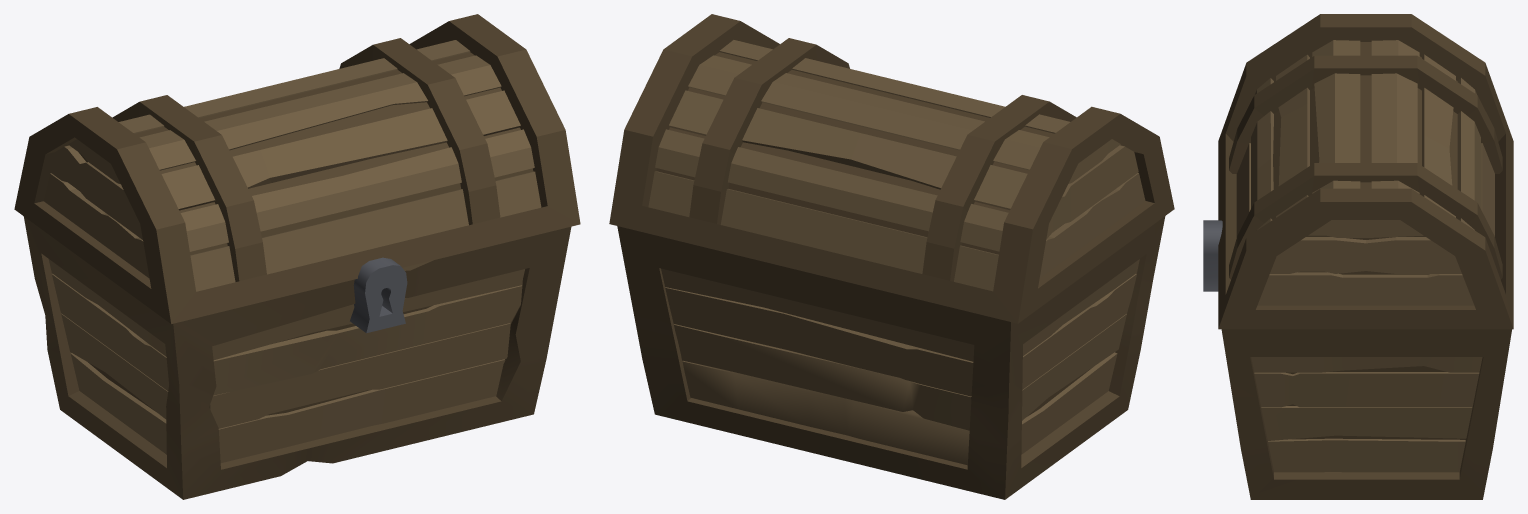
Rendered from Chest_Gold.glb.
3 views of the same model, side by side, from view 1: azimuth 30°, elevation 25°; view 2: azimuth 150°, elevation 25°; view 3: azimuth 270°, elevation 25° (orthographic). The views are drawn at different scales.
Visible parts, largest first — view 1: Chest_Gold_Top, Chest_Gold_Base; view 2: Chest_Gold_Top, Chest_Gold_Base; view 3: Chest_Gold_Top, Chest_Gold_Base.
Part boxes in pixels (x1=…): Chest_Gold_Top: x1=14, y1=14, x2=580, y2=324; Chest_Gold_Base: x1=23, y1=216, x2=571, y2=499; Chest_Gold_Top: x1=609, y1=14, x2=1174, y2=323; Chest_Gold_Base: x1=617, y1=216, x2=1165, y2=499; Chest_Gold_Top: x1=1218, y1=14, x2=1513, y2=329; Chest_Gold_Base: x1=1203, y1=220, x2=1511, y2=499.
Bounding box in the file's own units: 1.18 × 0.9107 × 0.8223.
